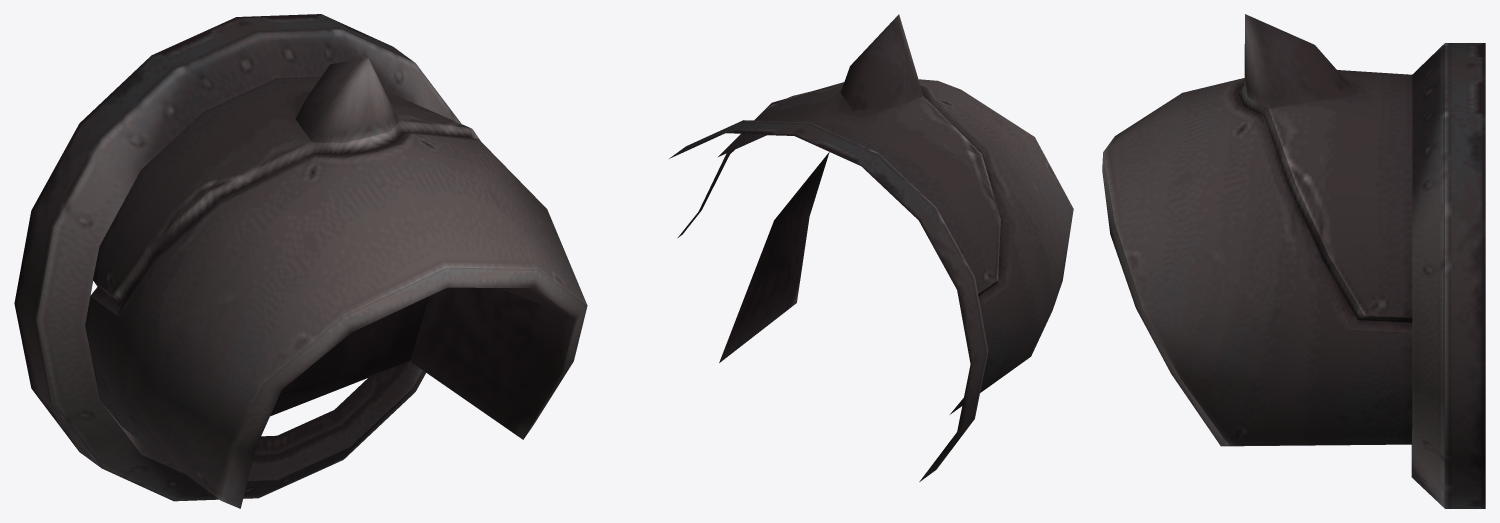
3 views of the same model, side by side, from view 1: azimuth 30°, elevation 25°; view 2: azimuth 150°, elevation 25°; view 3: azimuth 270°, elevation 25° (orthographic). The views are drawn at different scales.
Visible parts, largest first — view 1: twingun.part_base-Mesh[0]; view 2: twingun.part_base-Mesh[0]; view 3: twingun.part_base-Mesh[0].
Part boxes in pixels (left/top/right/bottom): twingun.part_base-Mesh[0]: left=14, top=14, right=587, bottom=508; twingun.part_base-Mesh[0]: left=669, top=14, right=1073, bottom=481; twingun.part_base-Mesh[0]: left=1102, top=14, right=1485, bottom=508.
Size of the model in its own units: 5.42 by 6.07 by 4.46.
1 material, 1 textured.
